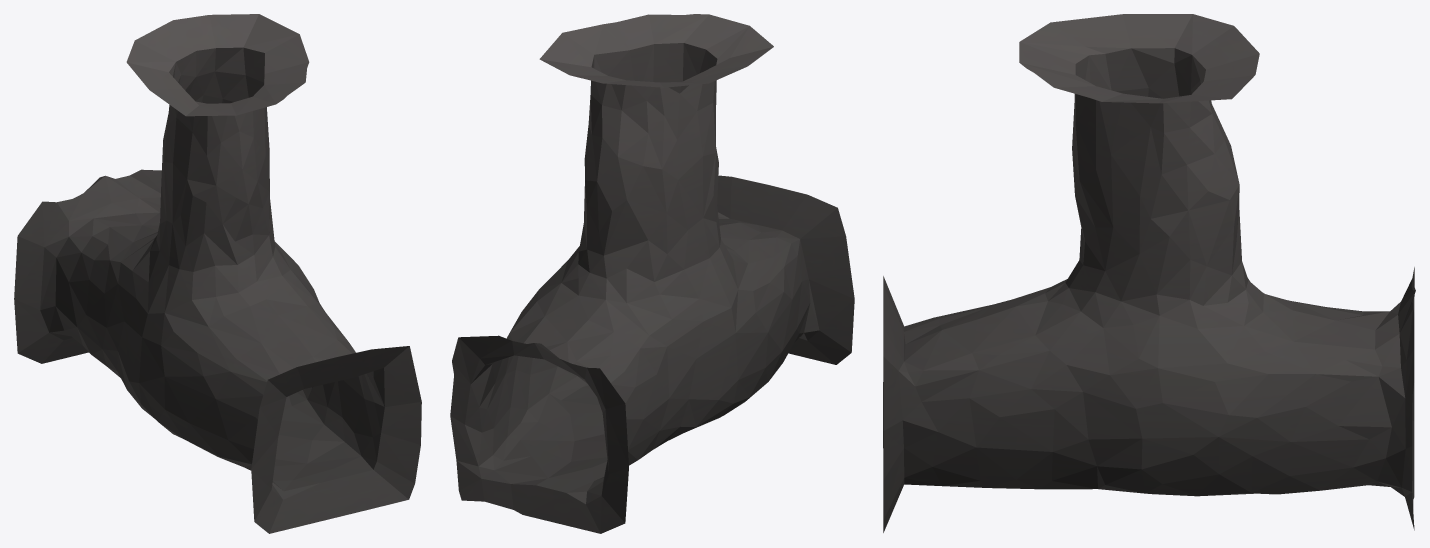
File: ZLP_Cave_B_8.FBX
3 renders of one model, left to right at view 1: azimuth 30°, elevation 25°; view 2: azimuth 150°, elevation 25°; view 3: azimuth 270°, elevation 25°, orthographic. The views are drawn at different scales.
Parts seen in each view (by area): view 1: ZLP_Cave_B_8; view 2: ZLP_Cave_B_8; view 3: ZLP_Cave_B_8.
Part boxes in pixels (left/top/right/bottom): ZLP_Cave_B_8: left=14, top=14, right=421, bottom=533; ZLP_Cave_B_8: left=450, top=14, right=854, bottom=533; ZLP_Cave_B_8: left=883, top=14, right=1415, bottom=532.
Size of the model in its own units: 690 by 1321 by 1454.
